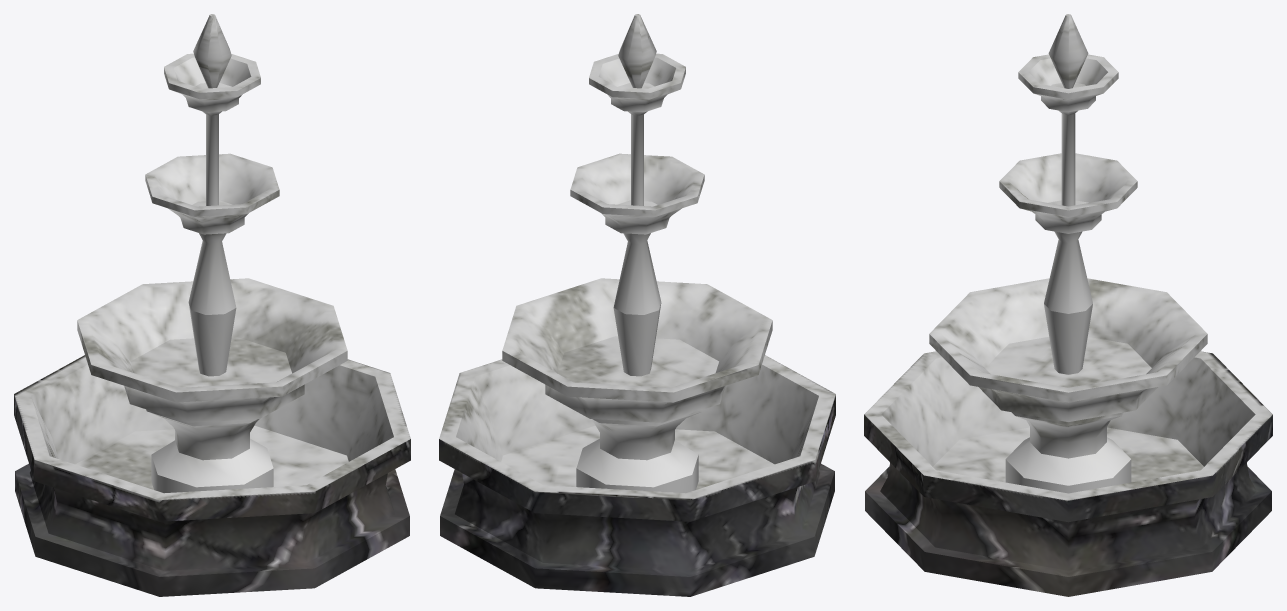
The model's file is Fountain.glb.
3 renders of one model, left to right at view 1: azimuth 30°, elevation 25°; view 2: azimuth 150°, elevation 25°; view 3: azimuth 270°, elevation 25°, orthographic.
Visible parts, largest first — view 1: 1_fountain.001; view 2: 1_fountain.001; view 3: 1_fountain.001.
Boxes of the visible parts, box(x1,y1,x2,y2) form: 1_fountain.001: box(14, 14, 410, 596); 1_fountain.001: box(439, 14, 835, 596); 1_fountain.001: box(864, 14, 1272, 596).
Size of the model in its own units: 8.04 by 10.76 by 8.04.
1 material, 1 textured.
